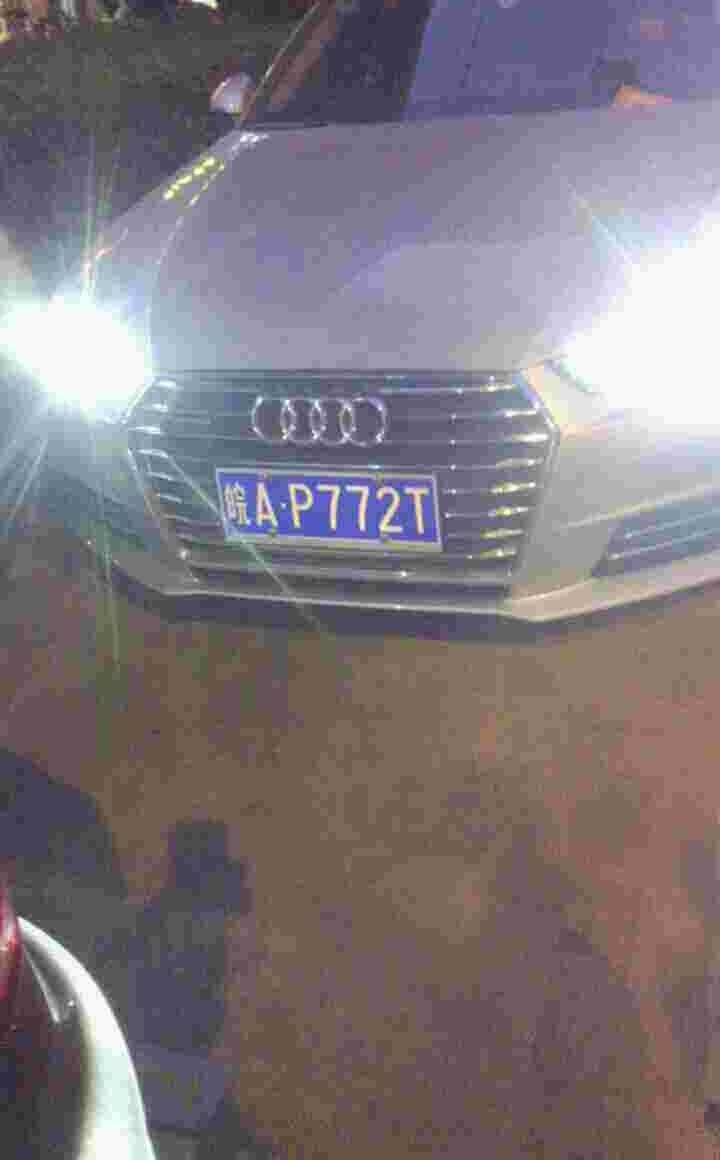license_plate: (222, 480, 448, 544)
